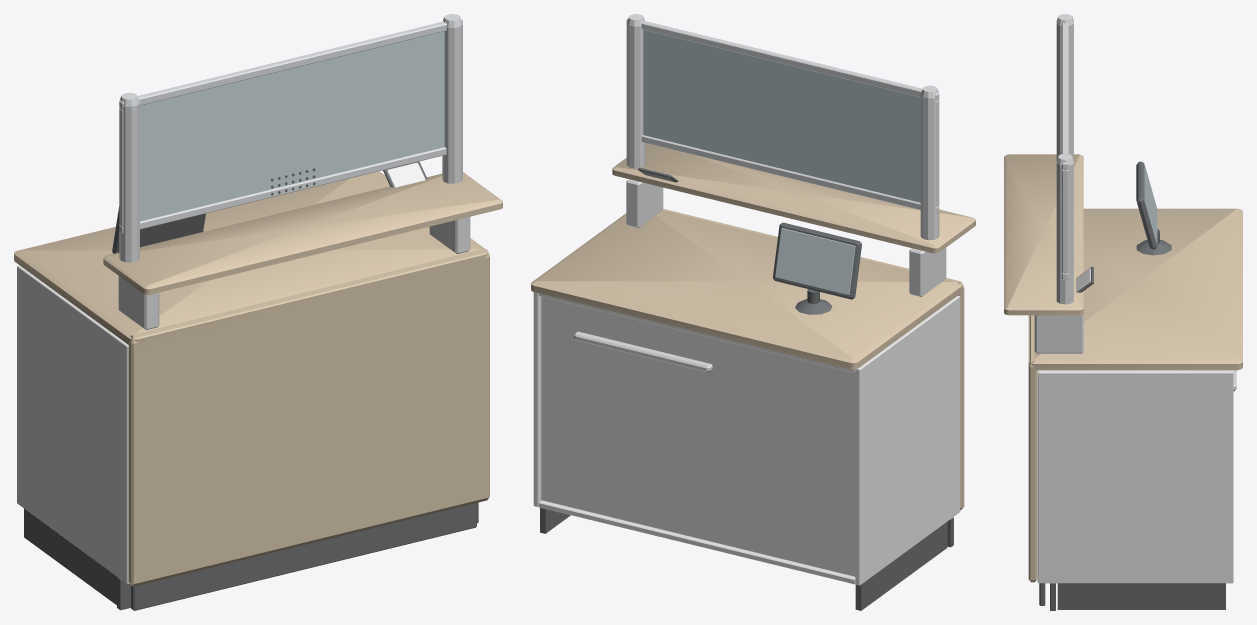
File: clinic-and-veterinary-practice-reception-desk-module-d612d498__16718.glb
The picture shows the model from 3 angles, left to right: view 1: azimuth 30°, elevation 25°; view 2: azimuth 150°, elevation 25°; view 3: azimuth 270°, elevation 25°; orthographic projection. The views are drawn at different scales.
Visible parts, largest first — view 1: reception-desk-module; view 2: reception-desk-module; view 3: reception-desk-module.
Boxes of the visible parts, x1,y1,x2,y2 form: reception-desk-module: (14,14,502,610); reception-desk-module: (531,14,975,610); reception-desk-module: (1004,14,1242,610).
Size of the model in its own units: 1.2 by 1.61 by 0.78.
